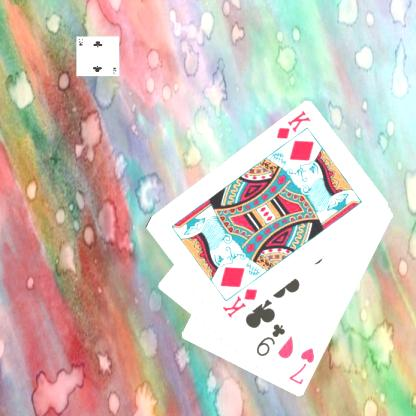7H: (286, 344, 316, 387)
9C: (253, 322, 287, 358)
KD: (219, 286, 259, 319), (274, 108, 312, 141)
